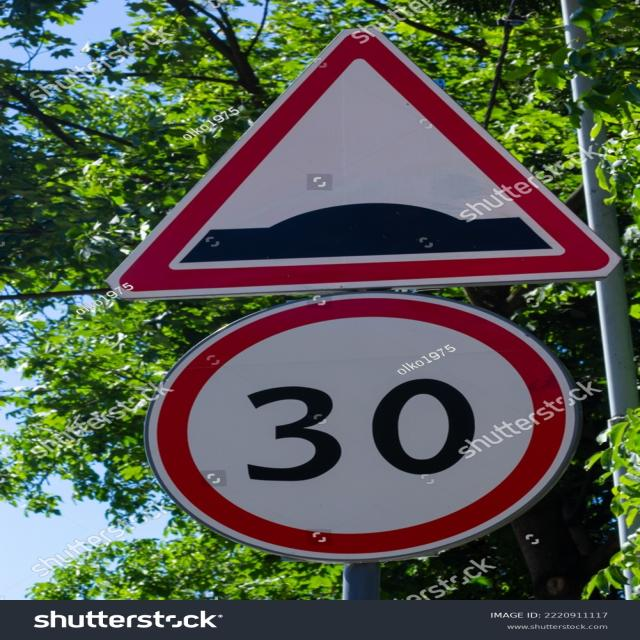Speed Limit -30-: (228, 374, 491, 491)
